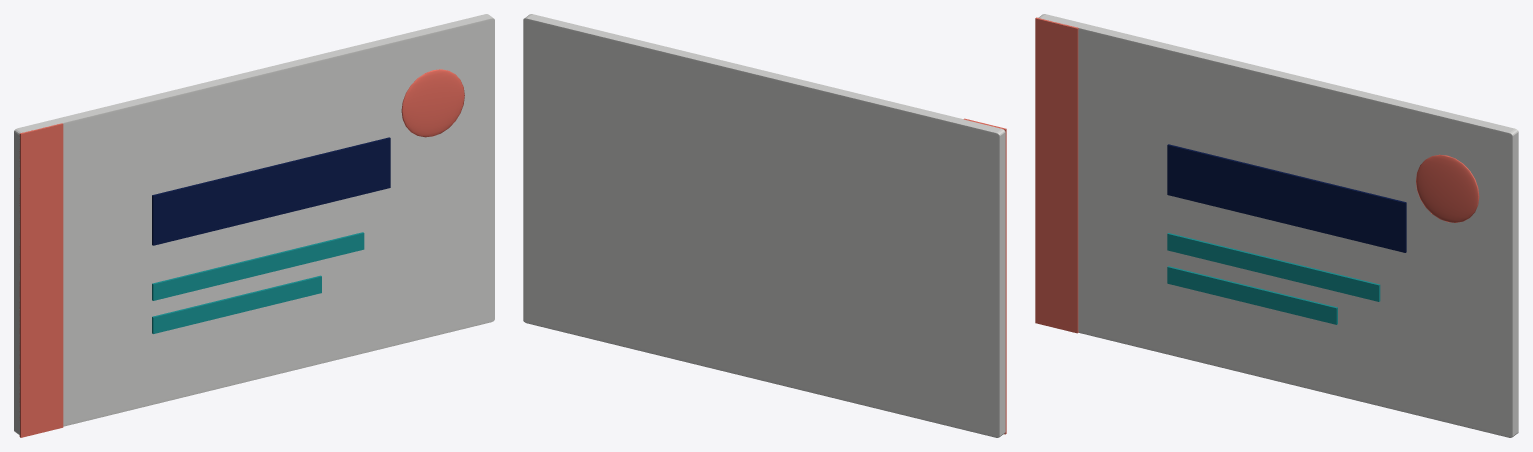
The model's file is meishi.glb.
3 renders of one model, left to right at view 1: azimuth 30°, elevation 25°; view 2: azimuth 150°, elevation 25°; view 3: azimuth 330°, elevation 25°, orthographic.
Parts seen in each view (by area): view 1: cartao, faixa, nome, linha1, selo, linha2; view 2: cartao, faixa; view 3: cartao, faixa, nome, linha1, selo, linha2.
Boxes of the visible parts, x1=… form: cartao: x1=14, y1=14, x2=494, y2=434; faixa: x1=19, y1=123, x2=63, y2=437; nome: x1=152, y1=137, x2=390, y2=245; linha1: x1=152, y1=232, x2=364, y2=300; selo: x1=401, y1=69, x2=464, y2=137; linha2: x1=152, y1=275, x2=321, y2=333; cartao: x1=523, y1=14, x2=1005, y2=437; faixa: x1=963, y1=118, x2=1006, y2=434; cartao: x1=1038, y1=14, x2=1518, y2=437; faixa: x1=1035, y1=17, x2=1078, y2=333; nome: x1=1167, y1=144, x2=1406, y2=252; linha1: x1=1167, y1=233, x2=1380, y2=301; selo: x1=1416, y1=154, x2=1479, y2=222; linha2: x1=1167, y1=266, x2=1337, y2=324.
Bounding box in the file's own units: 1.8 × 1.1 × 0.06.
